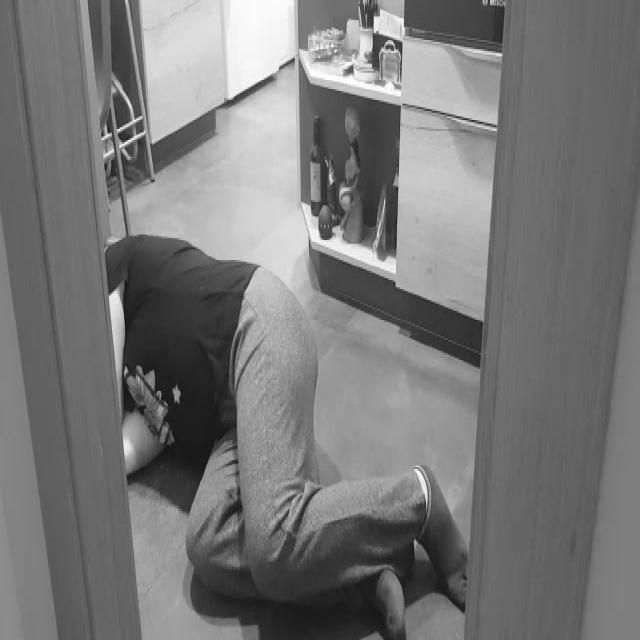lie: (95, 223, 466, 640)
